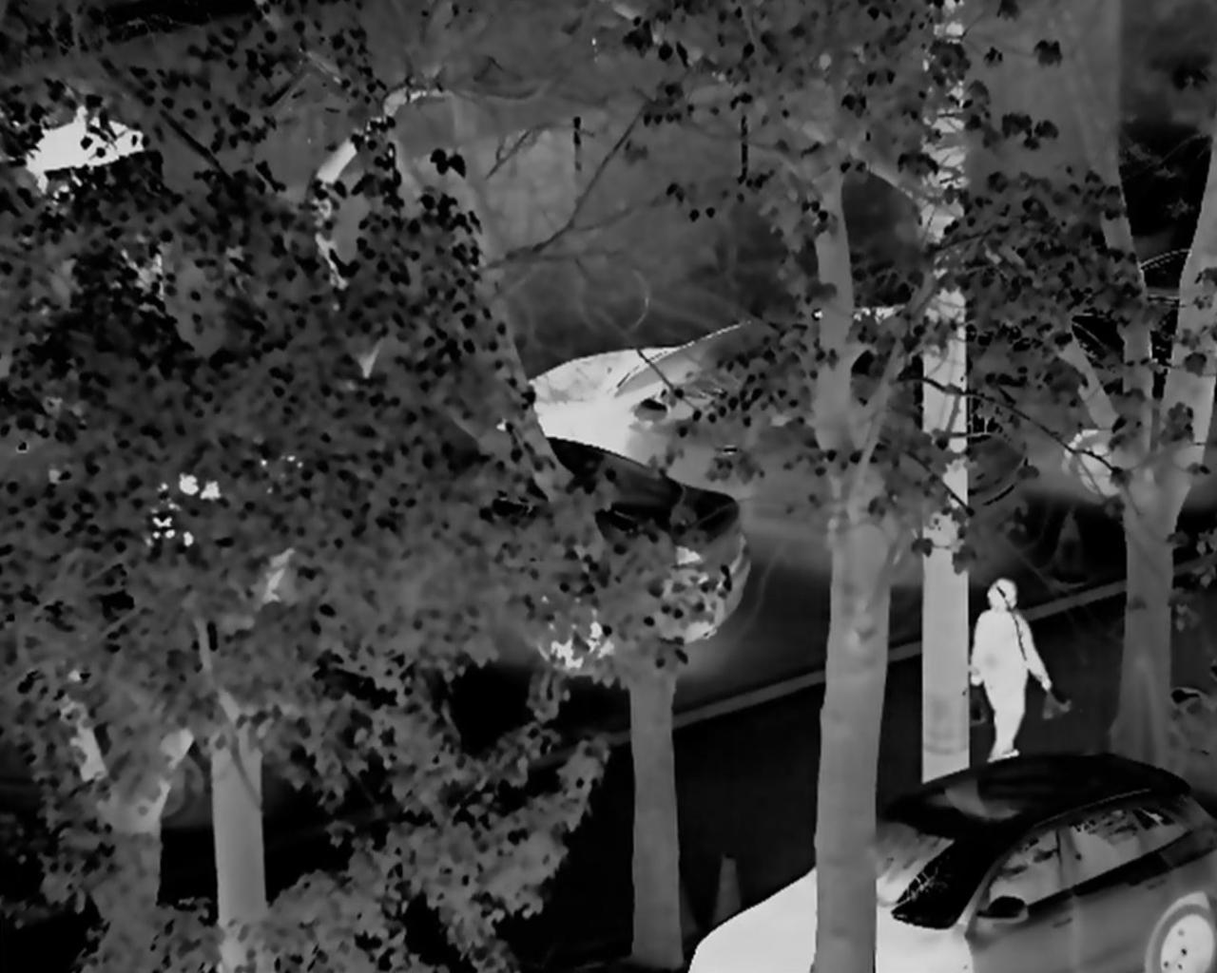person: (960, 573, 1057, 769)
